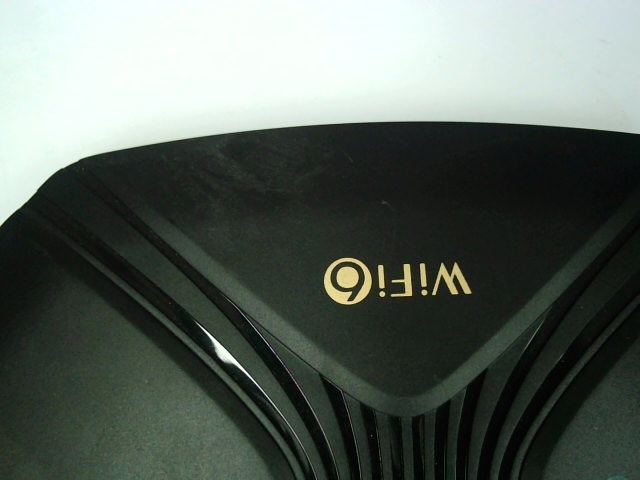AK_ZTEWIFI6Black: (309, 255, 476, 308)
